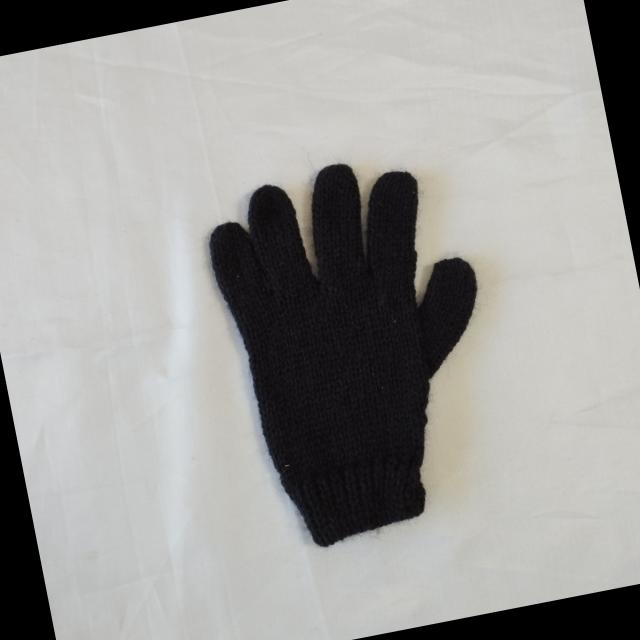Guante: (196, 141, 522, 560)
